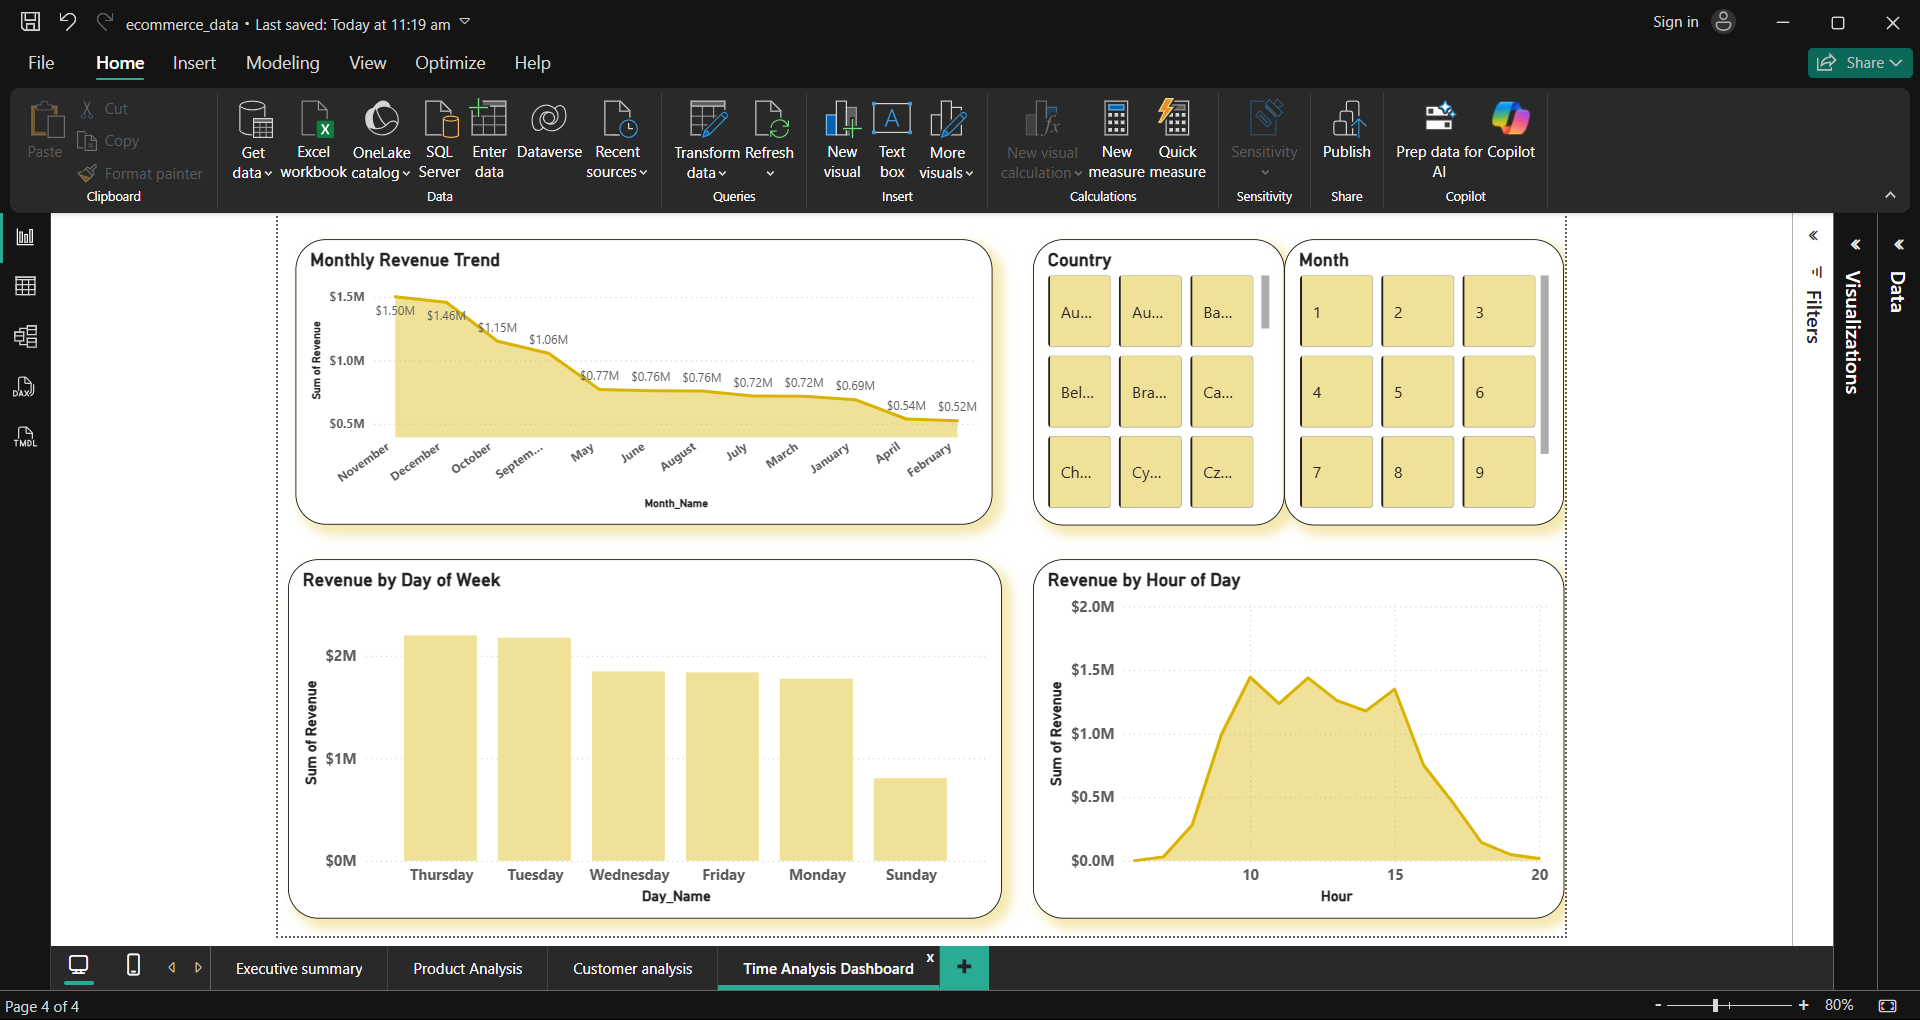

The dashboard page shown, as its layout file describes it:
{"tool":"powerbi","page":{"name":"Time Analysis Dashboard","canvas":[1280,720],"ordinal":3},"visuals":[{"type":"lineChart","title":"Monthly Revenue Trend","fields":{"Category":["public customer.Month_Name"],"Y":["Sum(public customer.Revenue)"]},"box":[17.5,25.6,693.9,283.8],"z":0},{"type":"clusteredColumnChart","title":"Revenue by Day of Week","fields":{"Category":["public customer.Day_Name"],"Y":["Sum(public customer.Revenue)"]},"box":[9.4,344.3,710.1,357.7],"z":1000},{"type":"areaChart","title":"Revenue by Hour of Day","fields":{"Category":["public customer.Hour"],"Y":["Sum(public customer.Revenue)"]},"box":[751.8,344.3,528.5,357.7],"z":1001},{"type":"advancedSlicerVisual","fields":{"Values":["public customer.Country"]},"box":[751.8,25.6,250.1,285.1],"z":1002},{"type":"advancedSlicerVisual","fields":{"Values":["public customer.Month"]},"box":[1002,26,278,285],"z":1003}]}

Visuals, with their boxes on the page's 1280x720 design canvas (x1, y1, x2, y2). These are canvas units, not pixel positions in the 1920x1020 screenshot, which may show the page scaled, cropped or inside an application window:
"Monthly Revenue Trend" lineChart: pyautogui.locateOnScreen(18, 26, 711, 309)
"Revenue by Day of Week" clusteredColumnChart: pyautogui.locateOnScreen(9, 344, 720, 702)
"Revenue by Hour of Day" areaChart: pyautogui.locateOnScreen(752, 344, 1280, 702)
advancedSlicerVisual - public customer.Country: pyautogui.locateOnScreen(752, 26, 1002, 311)
advancedSlicerVisual - public customer.Month: pyautogui.locateOnScreen(1002, 26, 1280, 311)
